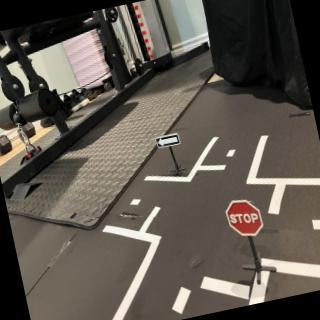sign_oneway_left: (154, 132, 183, 152)
sign_stop: (223, 194, 268, 244)
